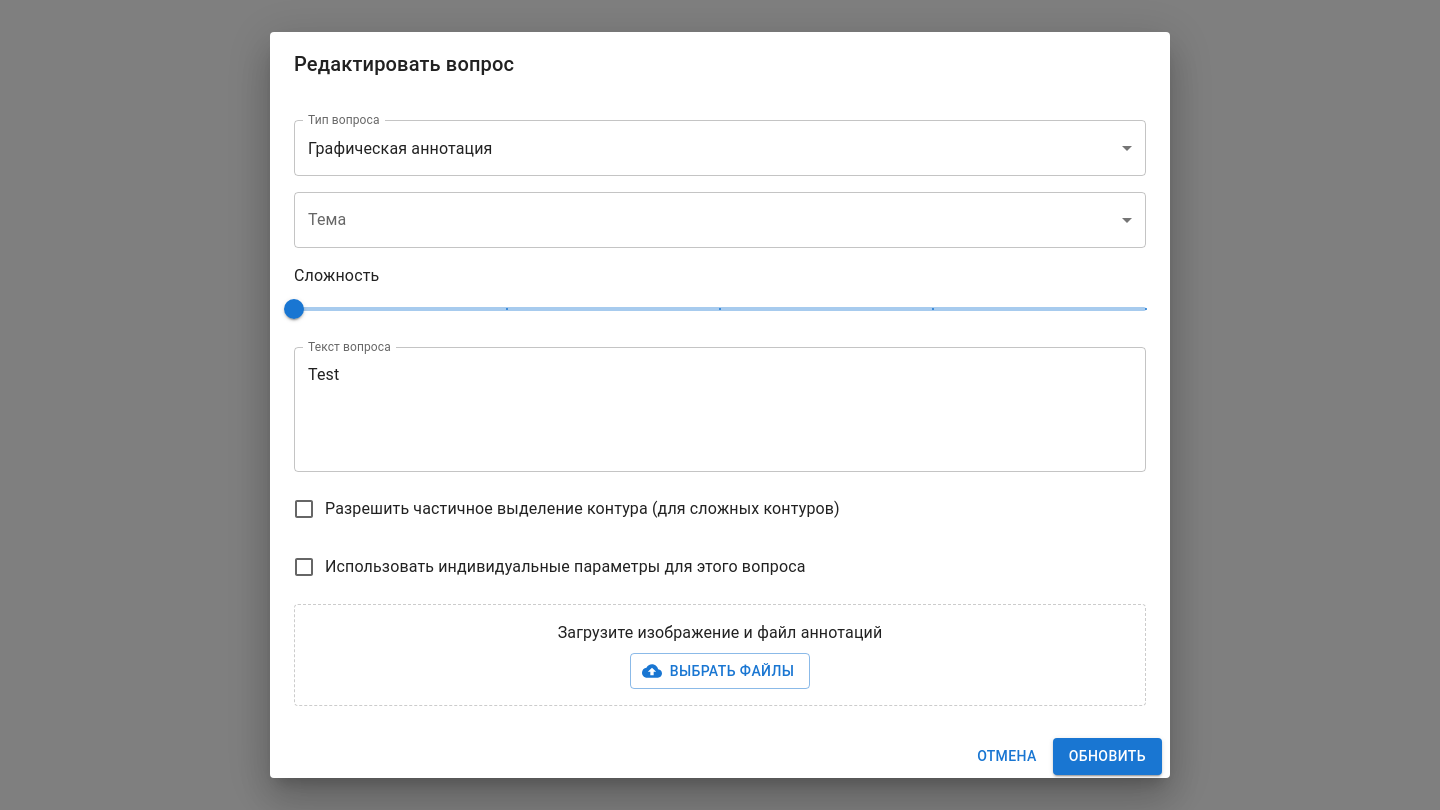
Test: QuestionFormDialog (Конструктор вопросов) › should handle label configurations
The image size is (1440, 810).
// Включаем кастомные настройки
Step 1. Click the text "Использовать индивидуальные параметры для этого вопроса" → (565, 567), box [325,555,806,579]
(page scrolled)
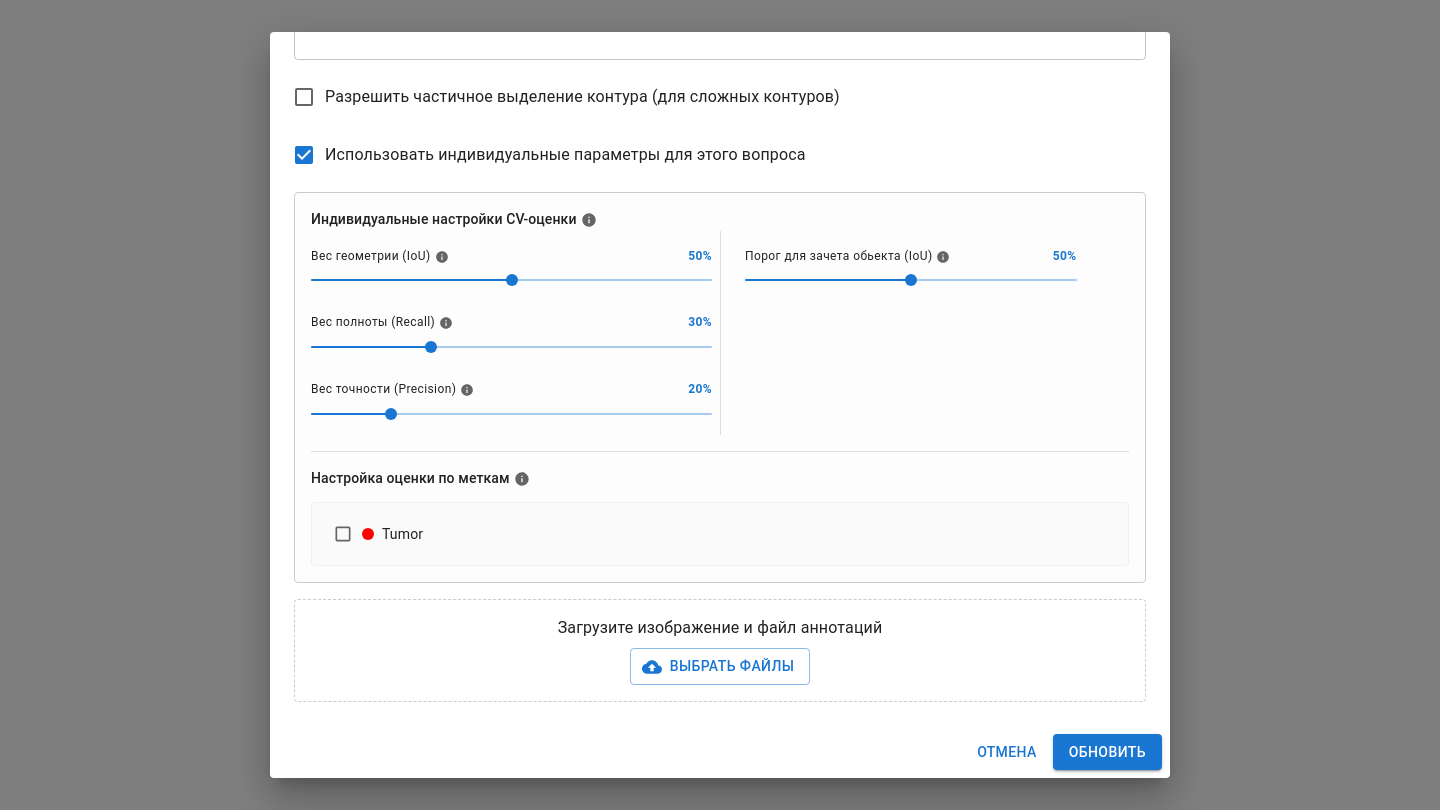
Expected: the heading "Настройка оценки по меткам" is shown, [311,470,530,487]
Expected: the text "Tumor" is shown, [382,524,423,544]
// Активируем метку Tumor для оценки
Step 2. Click the checkbox labelled "Tumor" → (403, 534), box [333,524,423,544]
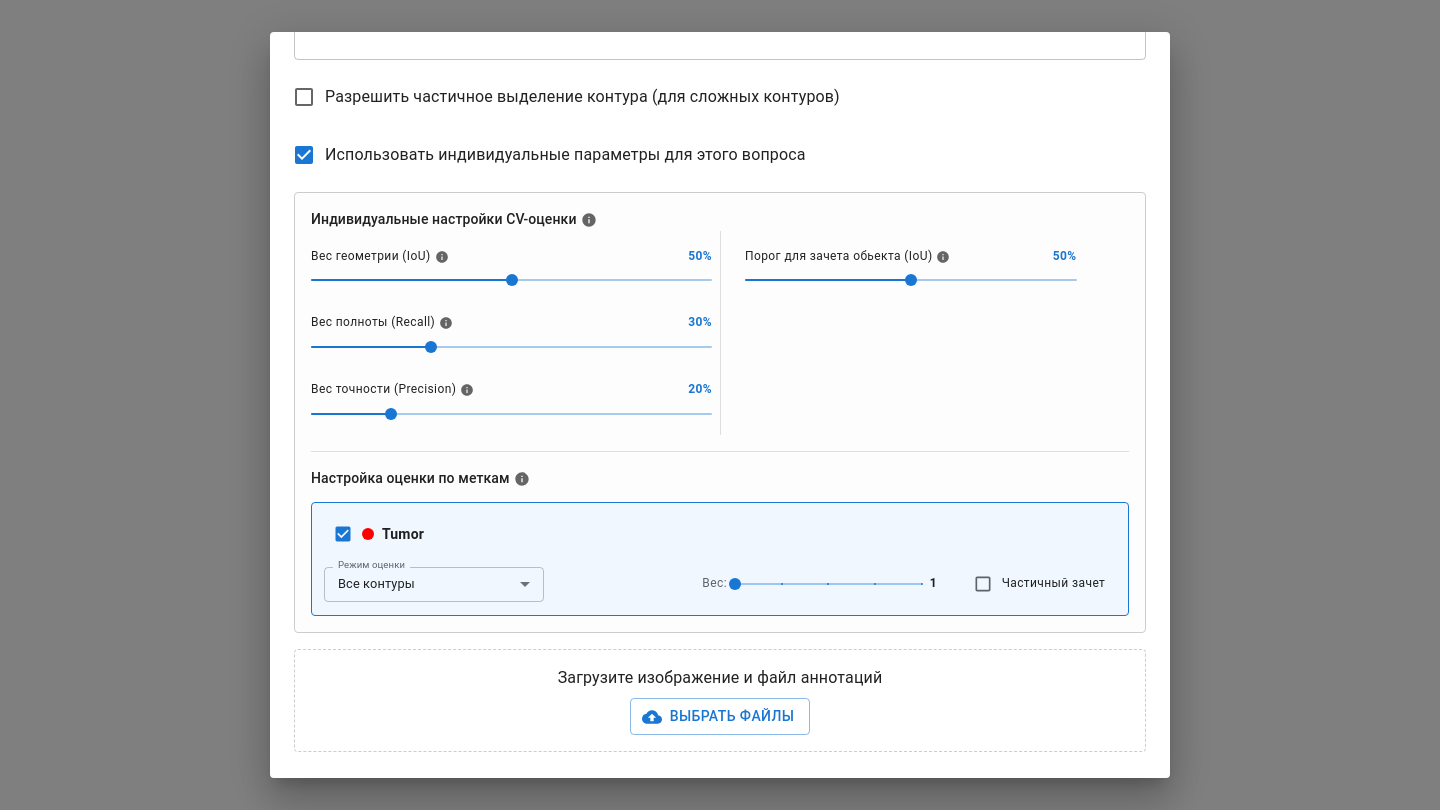
Expected: the text "Режим оценки" is shown, [338,558,405,571]
